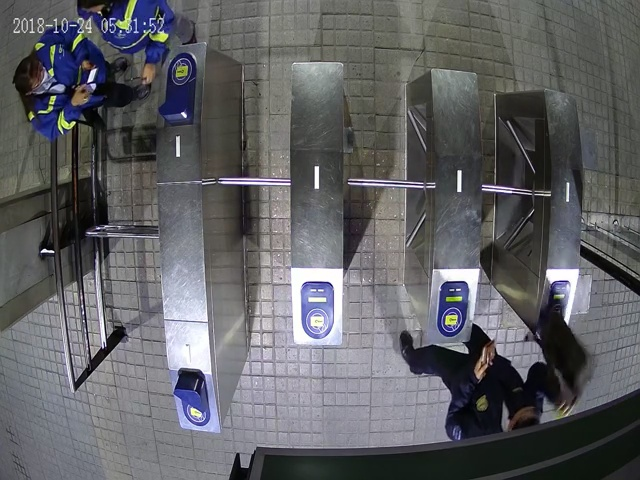Chaleco_azul: (13, 22, 151, 138), (75, 1, 197, 87)
